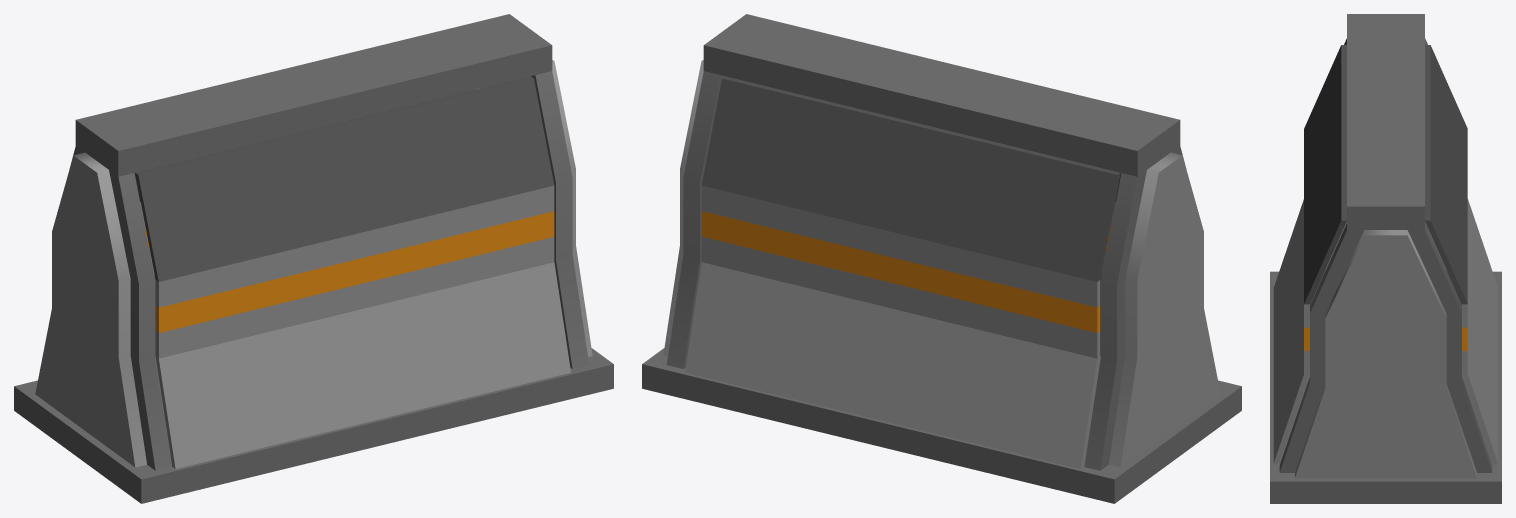
The model's file is Environment2_Cover_TrainCart1.fbx.
3 renders of one model, left to right at view 1: azimuth 30°, elevation 25°; view 2: azimuth 150°, elevation 25°; view 3: azimuth 270°, elevation 25°, orthographic. The views are drawn at different scales.
Visible parts, largest first — view 1: TrainCart SidePanel.001, TrainCart Frame, TrainCart Panel.001, TrainCart Panel; view 2: TrainCart SidePanel, TrainCart Frame, TrainCart Panel.001, TrainCart Panel; view 3: TrainCart Frame, TrainCart Panel, TrainCart SidePanel.001, TrainCart SidePanel.
Part boxes in pixels (x1,y1,x2,y2): TrainCart SidePanel.001: (135, 76, 570, 468); TrainCart Frame: (14, 14, 613, 503); TrainCart Panel.001: (35, 152, 146, 467); TrainCart Panel: (552, 60, 592, 356); TrainCart SidePanel: (685, 76, 1120, 468); TrainCart Frame: (642, 14, 1241, 503); TrainCart Panel.001: (1109, 152, 1220, 467); TrainCart Panel: (663, 60, 703, 356); TrainCart Frame: (1270, 14, 1501, 503); TrainCart Panel: (1295, 230, 1476, 478); TrainCart SidePanel.001: (1273, 45, 1346, 463); TrainCart SidePanel: (1425, 45, 1497, 463).
Bounding box in the file's own units: 1440 × 924 × 672.
